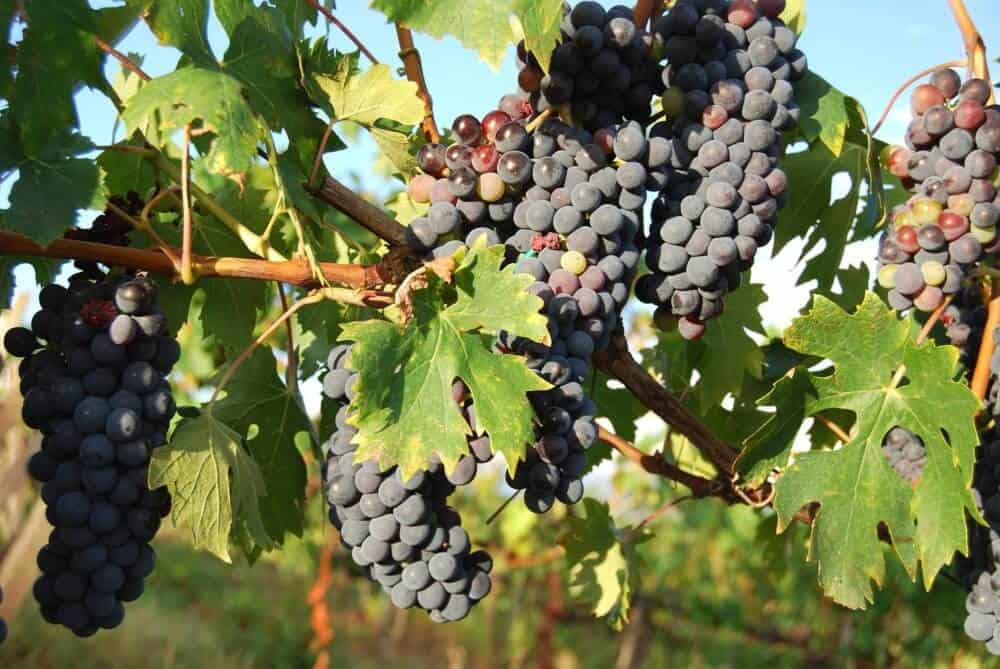Black grapes: (310, 349, 500, 610), (30, 281, 149, 634), (449, 121, 638, 320), (673, 21, 773, 338)
